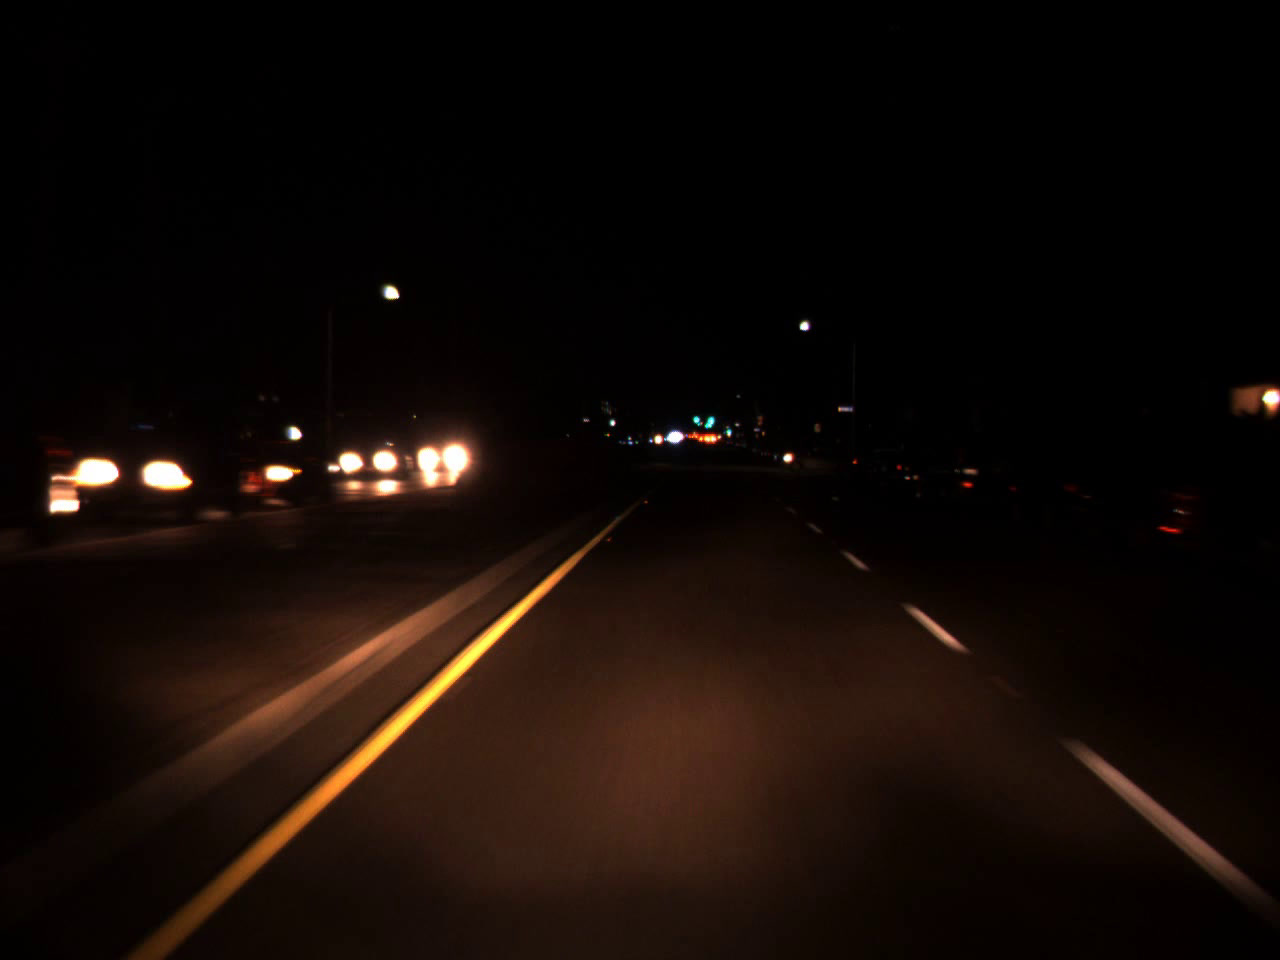go: (702, 406, 716, 430), (721, 421, 733, 436), (692, 411, 699, 423)
